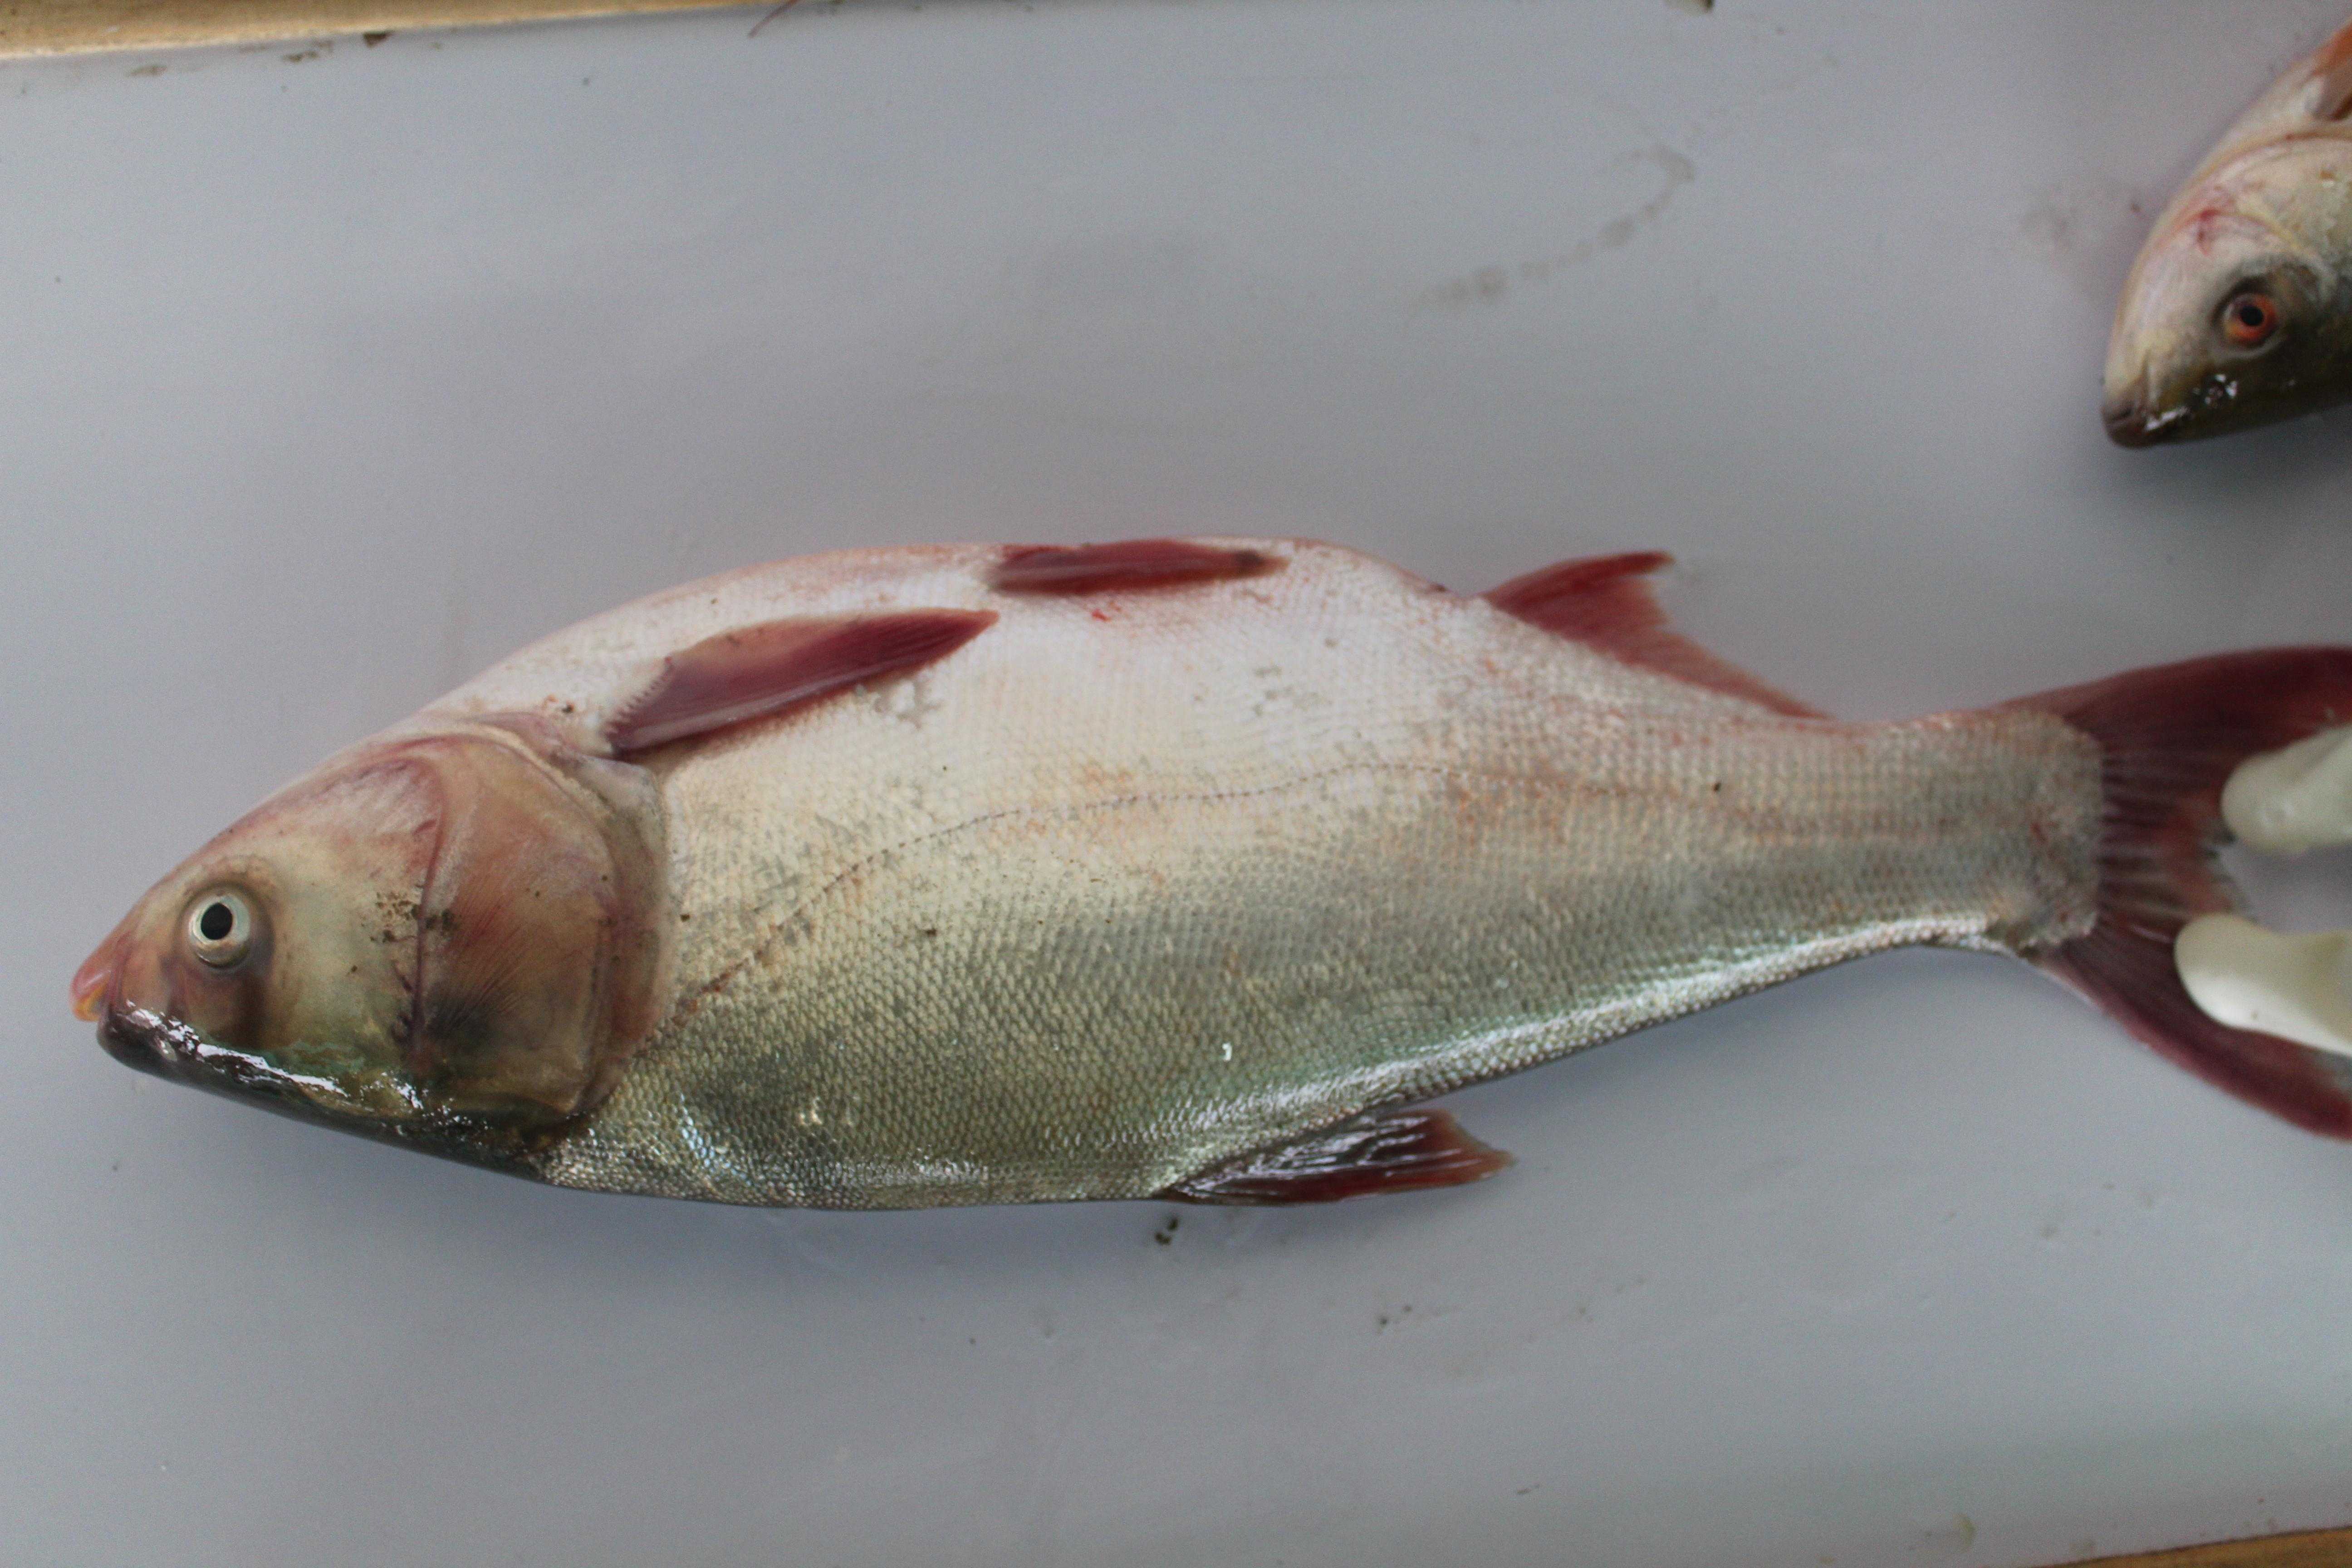Silver Carp: (93, 544, 2352, 1207)
